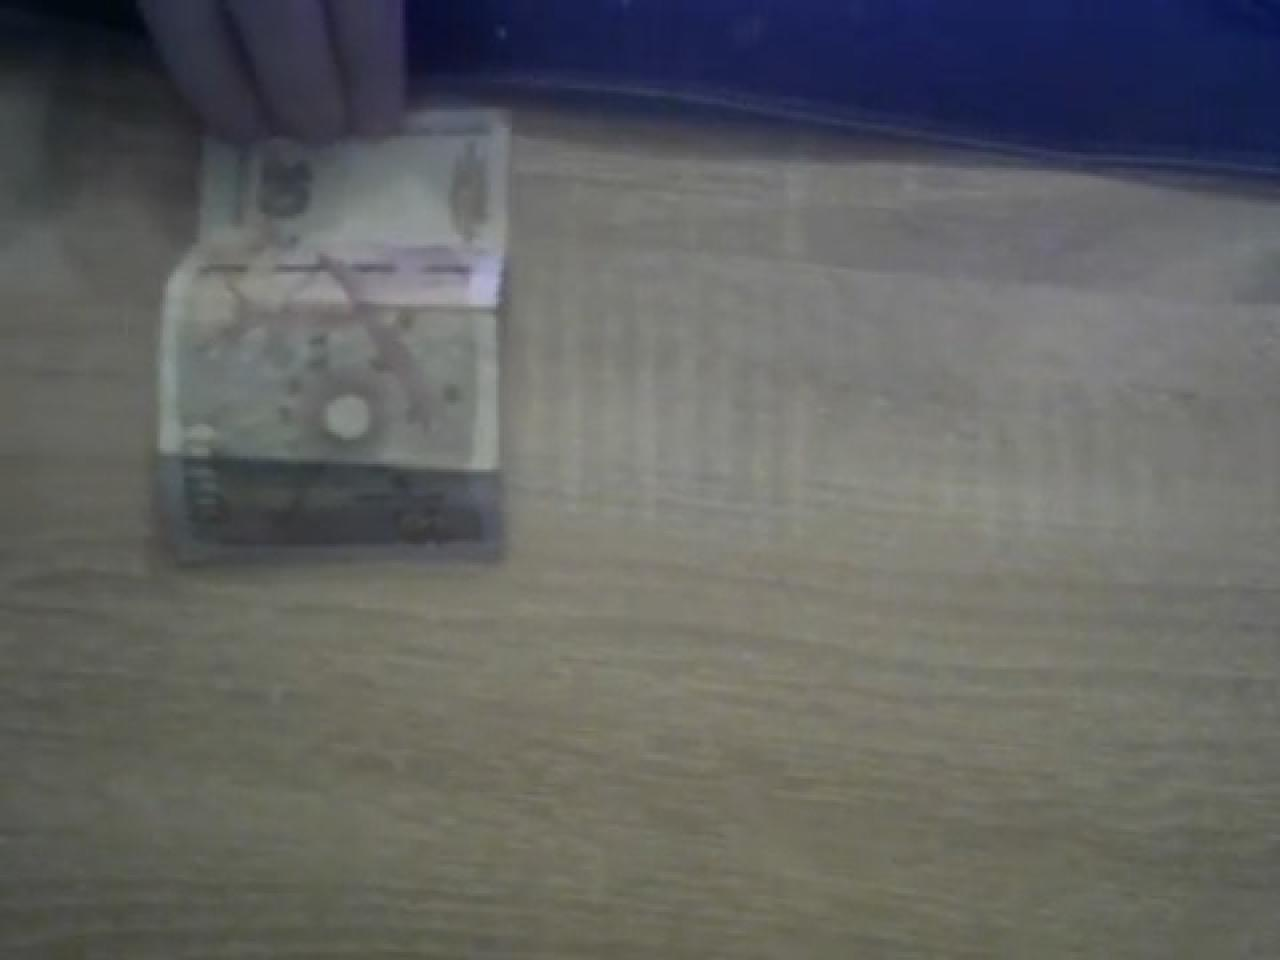10leva: (154, 112, 512, 568)
